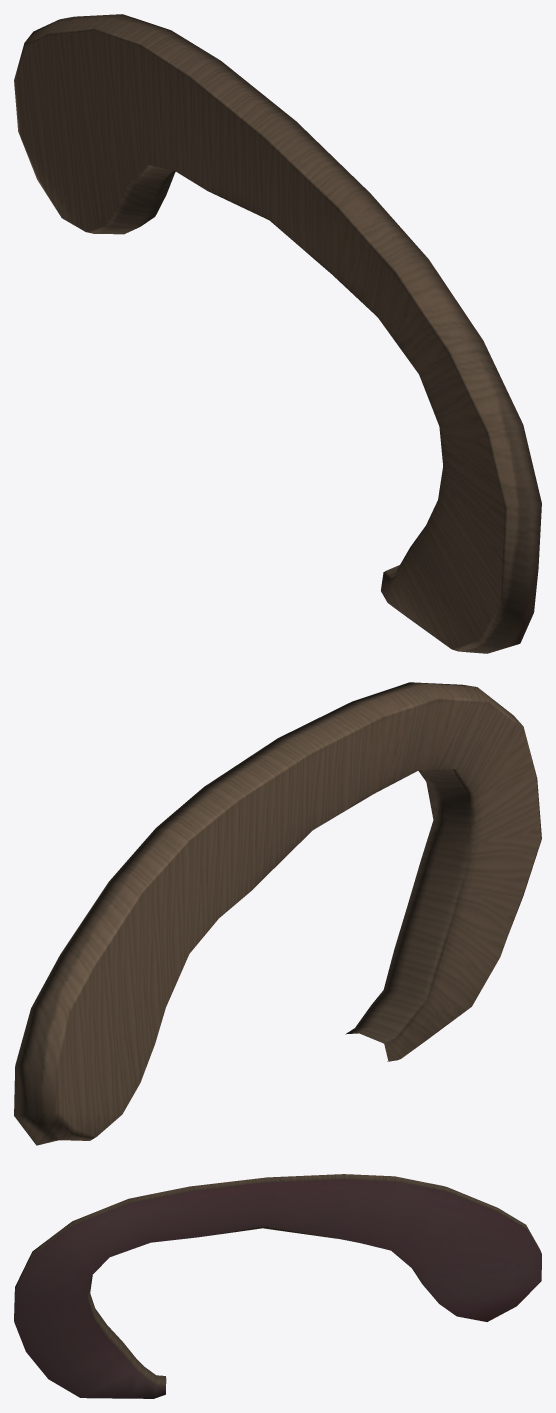
The model's file is Corpus_Callosum.gltf.
3 renders of one model, top to bottom at view 1: azimuth 30°, elevation 25°; view 2: azimuth 150°, elevation 25°; view 3: azimuth 270°, elevation 25°, orthographic. The views are drawn at different scales.
Visible parts, largest first — view 1: Corpus_Callosum; view 2: Corpus_Callosum; view 3: Corpus_Callosum.
Part boxes in pixels (<box>): Corpus_Callosum: <box>14,14,541,653</box>; Corpus_Callosum: <box>14,682,541,1145</box>; Corpus_Callosum: <box>14,1174,541,1398</box>.
Size of the model in its own units: 0.5957 by 3.74 by 8.27.
Materials: 1 (1 with a texture image).
